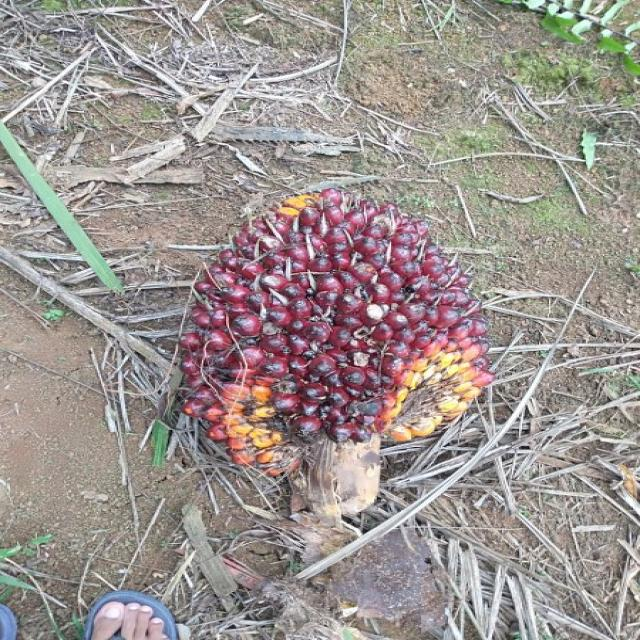fraksi 1: (100, 165, 568, 558)
